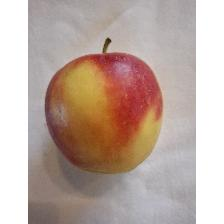Apfel: (43, 38, 165, 178)
